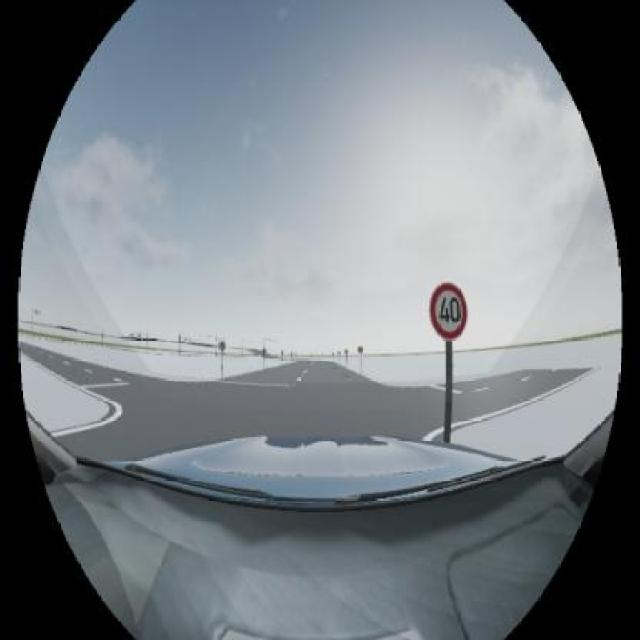forb_speed_over_40: (429, 281, 468, 339)
